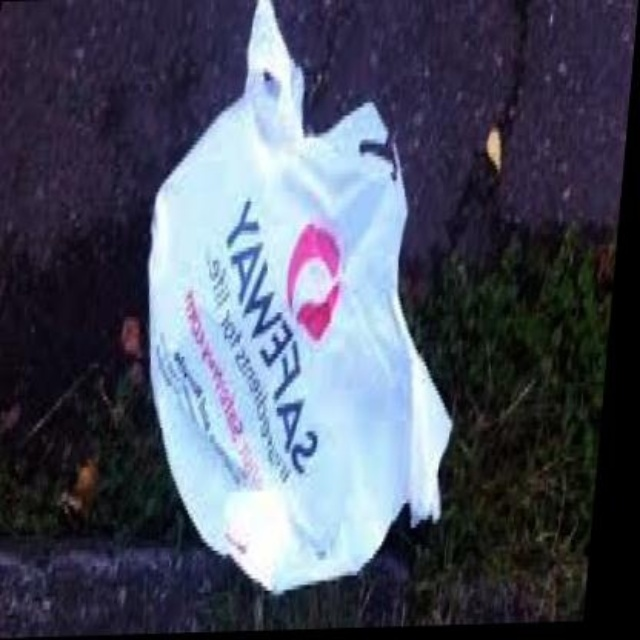trash: (149, 0, 449, 591)
